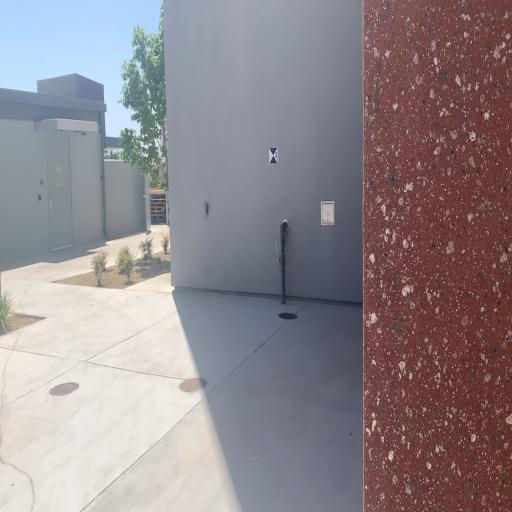target3: (269, 147, 278, 165)
